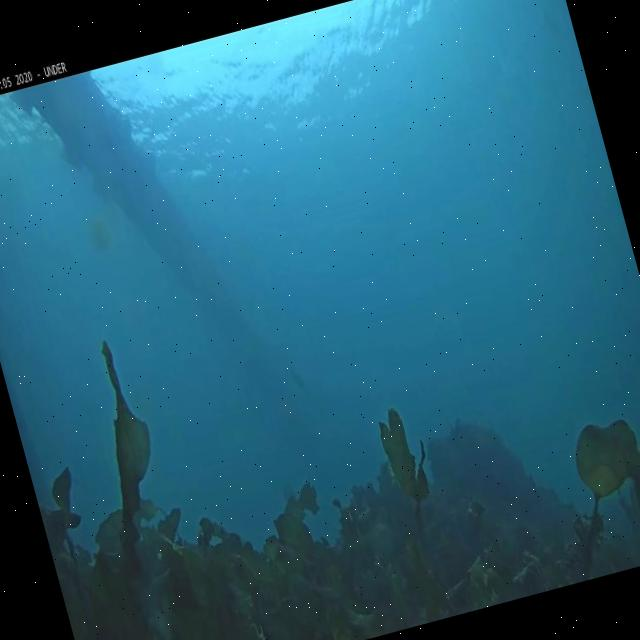fish: (284, 360, 310, 400), (278, 476, 298, 504)
